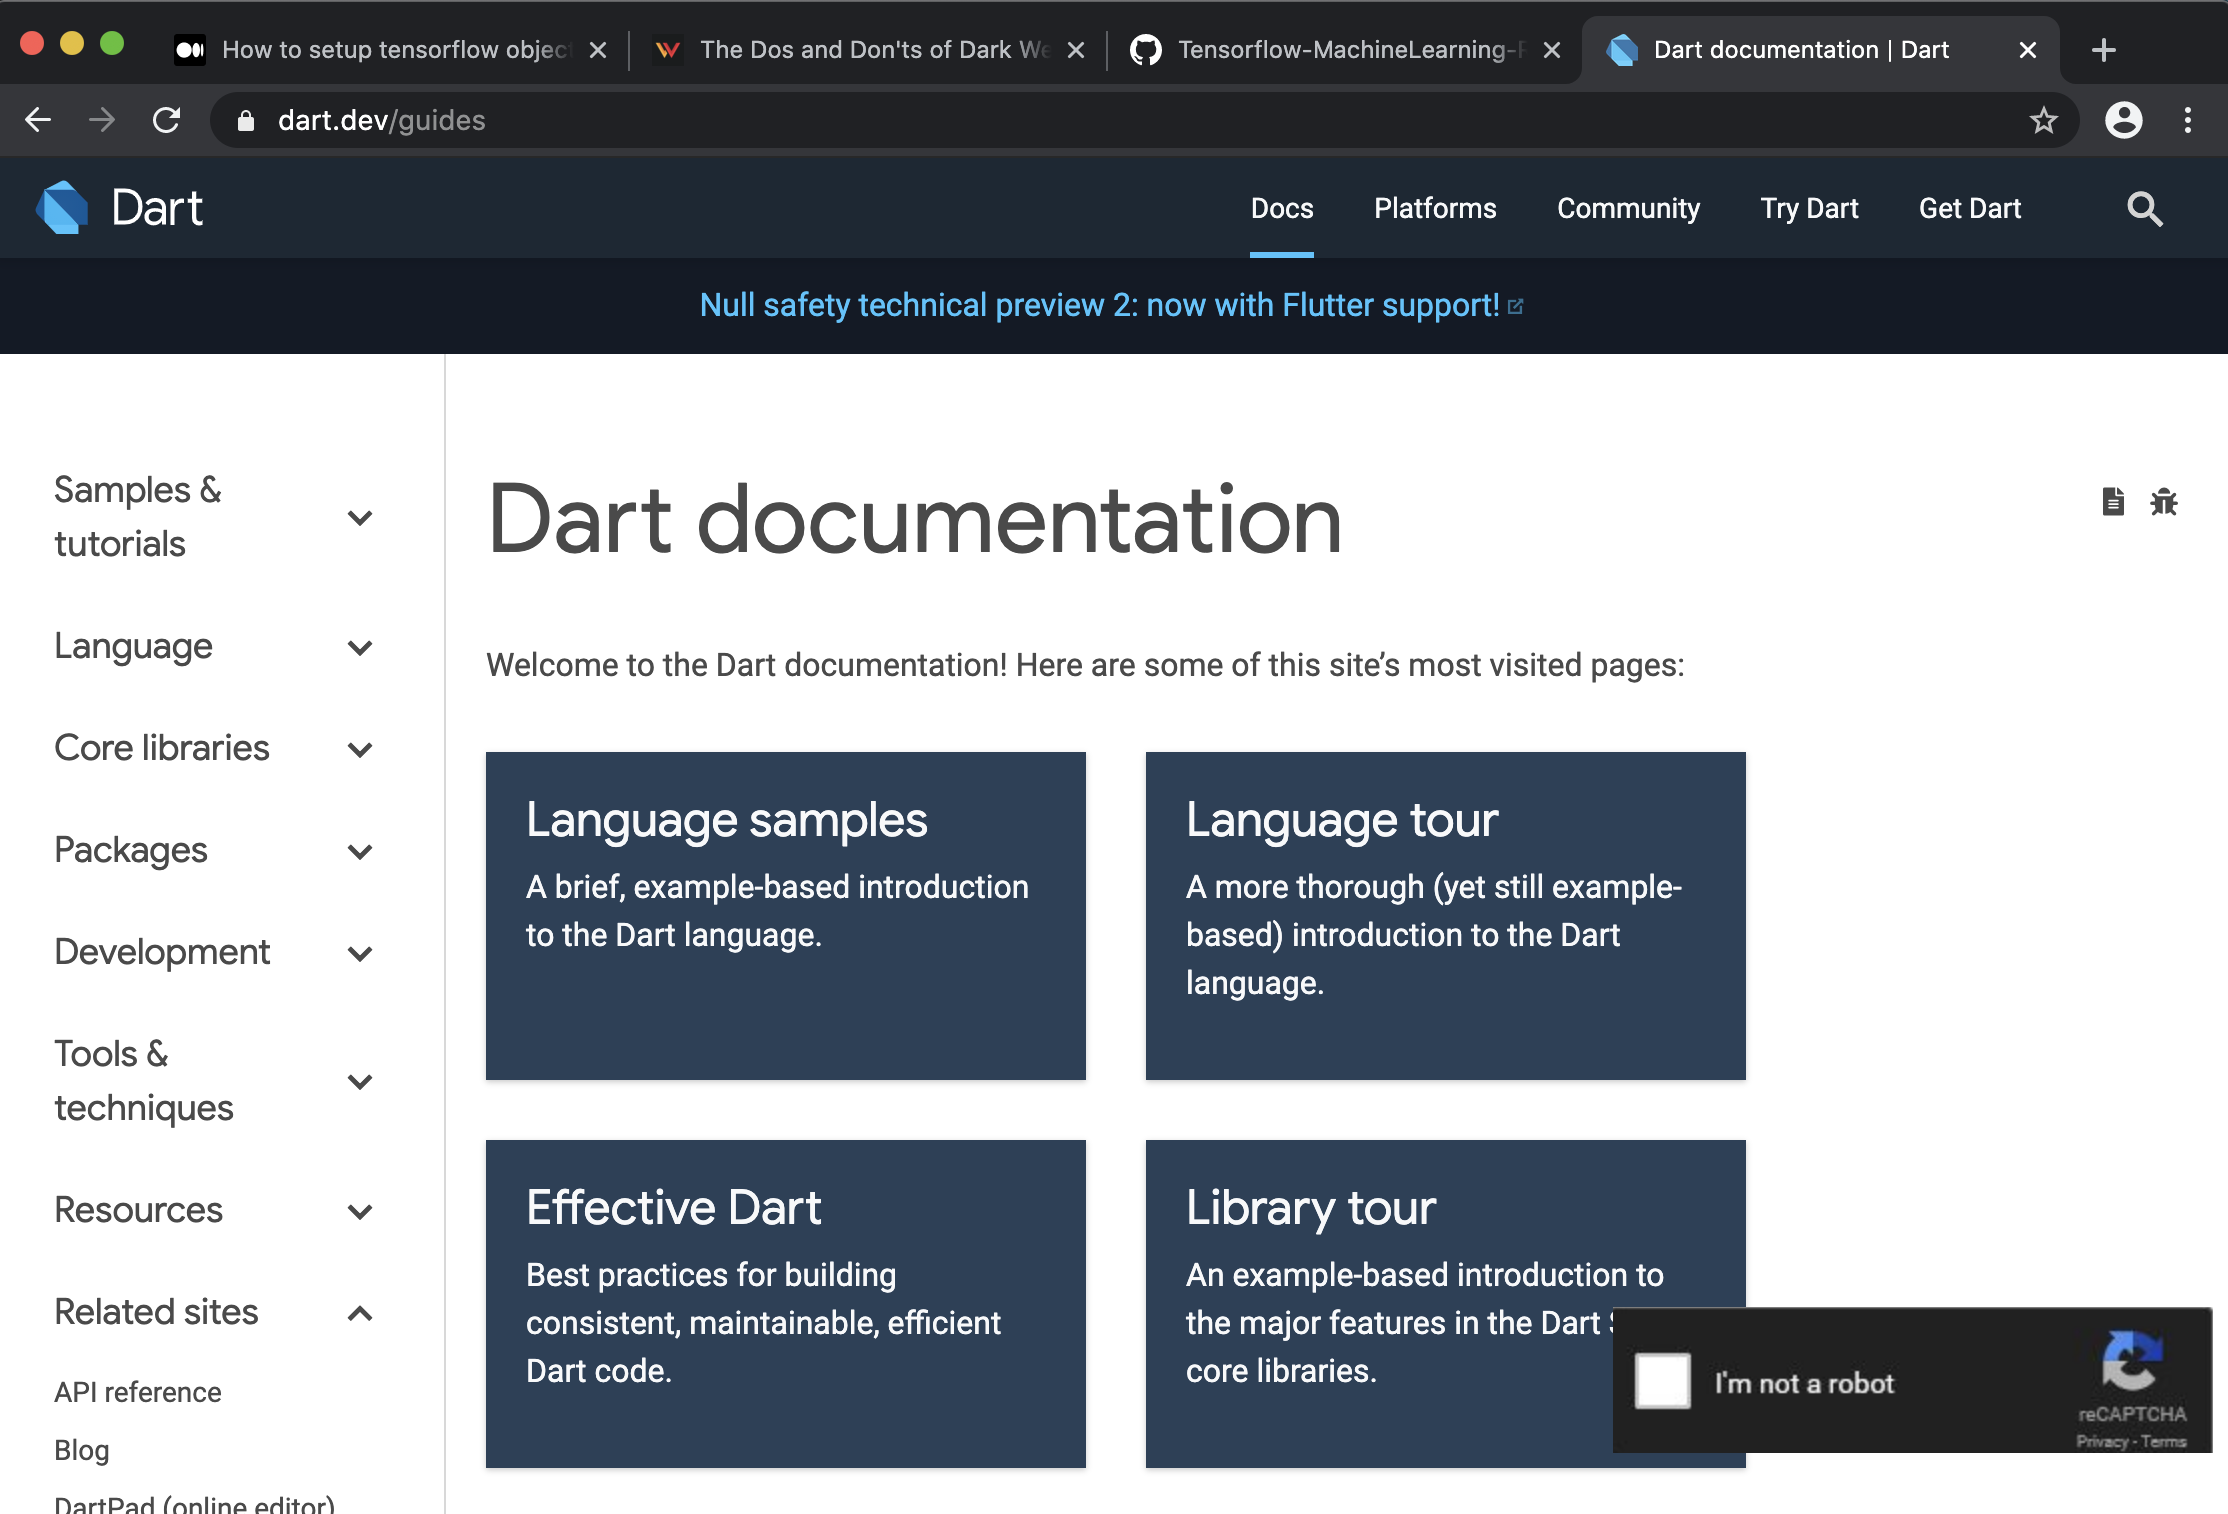captcha: (1605, 1289, 2226, 1470)
